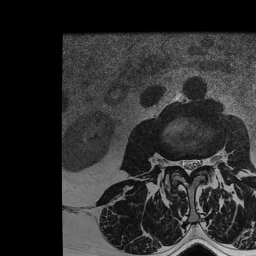CCS_normal: (185, 153, 192, 180)
LFS_normal: (201, 151, 208, 172)
LLS_normal: (192, 152, 201, 174)
RFS_stenosis: (169, 151, 177, 173)
RLS_normal: (177, 152, 185, 175)
